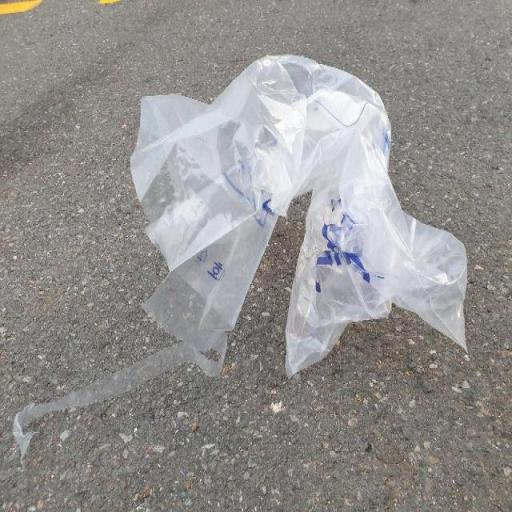plastic-bag: (11, 49, 470, 463)
